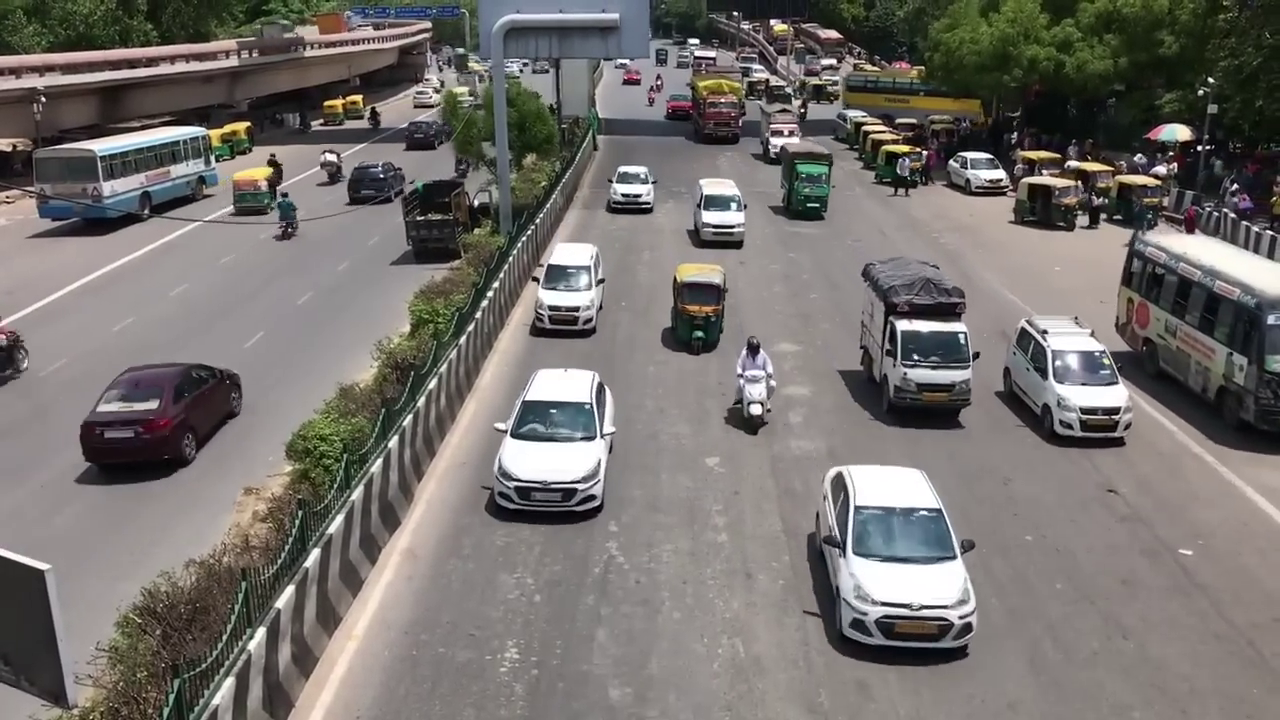Bus: (1110, 213, 1274, 450), (34, 117, 216, 240), (839, 69, 1015, 141)
Car: (805, 454, 983, 666), (76, 351, 250, 493), (485, 365, 619, 531), (1002, 300, 1136, 440), (523, 234, 613, 342), (341, 151, 411, 211), (941, 145, 1013, 200), (608, 156, 667, 213)
License_Plate: (886, 617, 939, 639), (523, 488, 572, 507), (98, 427, 138, 444), (918, 387, 958, 404)
MotorCycle: (725, 357, 784, 437), (273, 202, 299, 247)
Pickup: (854, 251, 981, 429), (689, 162, 754, 253), (782, 139, 833, 230), (757, 102, 812, 166)
Truck: (685, 71, 752, 147)
